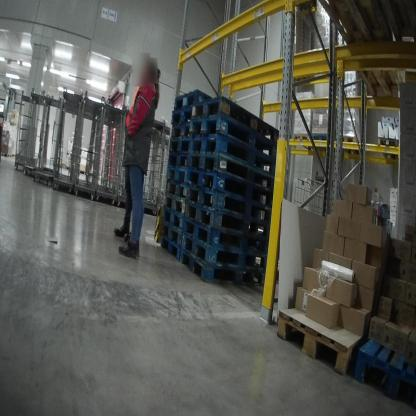pallet: (272, 293, 380, 383), (196, 93, 280, 151), (352, 328, 414, 405), (343, 44, 414, 109), (311, 2, 402, 51), (182, 231, 272, 277), (184, 196, 270, 244), (191, 133, 277, 179), (192, 113, 278, 158), (188, 169, 274, 214), (180, 246, 270, 288), (182, 216, 269, 258), (190, 150, 273, 190), (185, 185, 269, 222), (382, 2, 415, 48), (171, 88, 217, 108), (374, 136, 405, 164), (307, 127, 332, 157), (332, 133, 361, 158), (291, 132, 315, 158), (161, 220, 181, 248), (161, 190, 183, 214), (166, 162, 191, 182), (162, 208, 182, 232), (159, 236, 179, 260), (169, 108, 192, 128), (165, 152, 190, 170), (166, 136, 191, 153), (169, 122, 192, 139), (164, 181, 185, 199)
